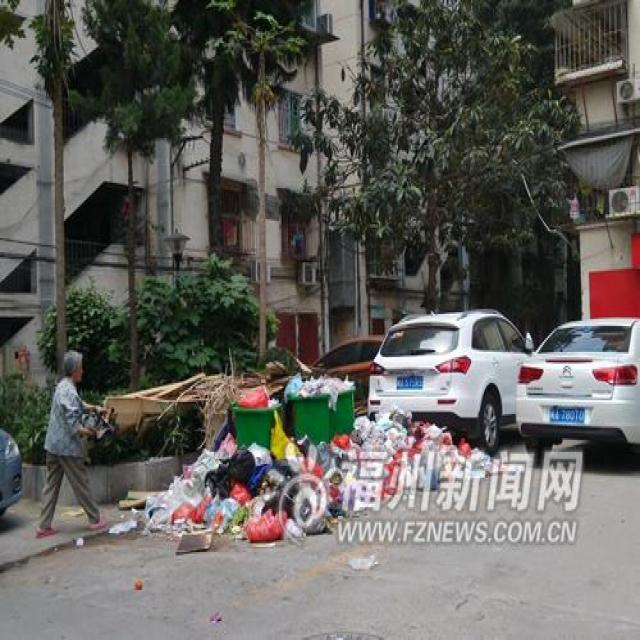garbage: (109, 407, 490, 554)
overflow: (283, 369, 354, 438), (229, 383, 273, 443)
